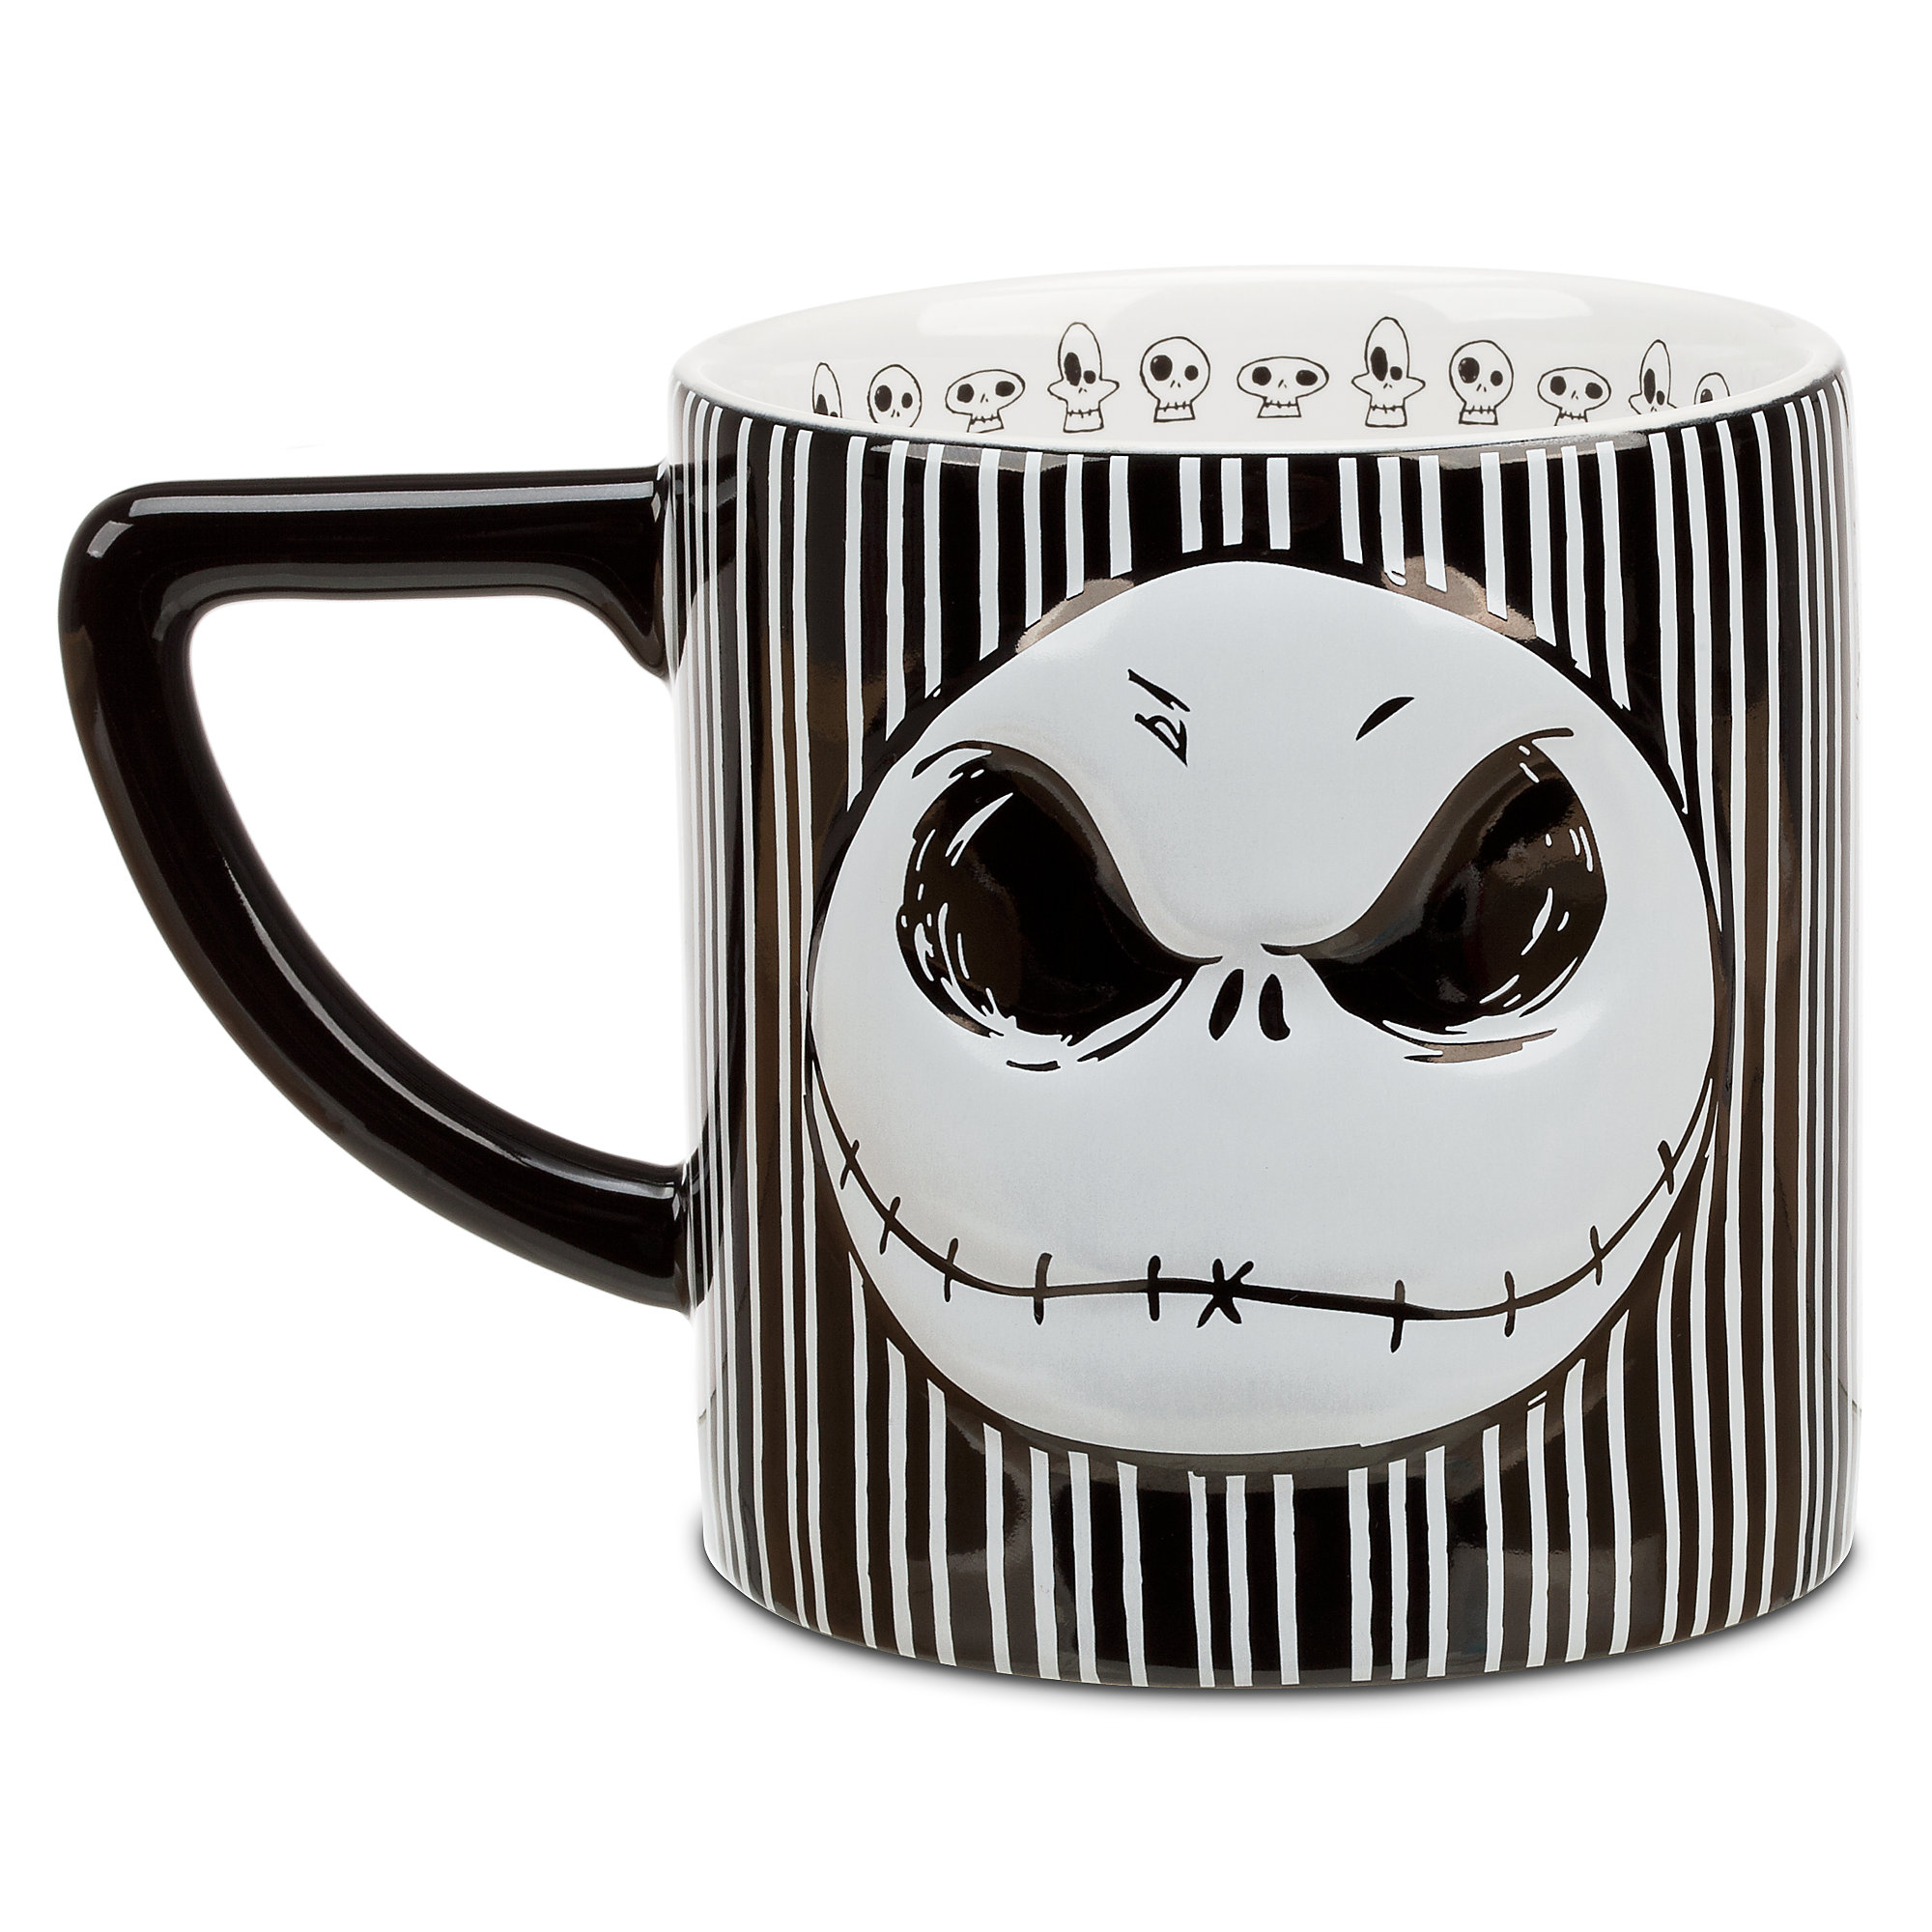Jack Skellington: (794, 547, 1730, 1479)
